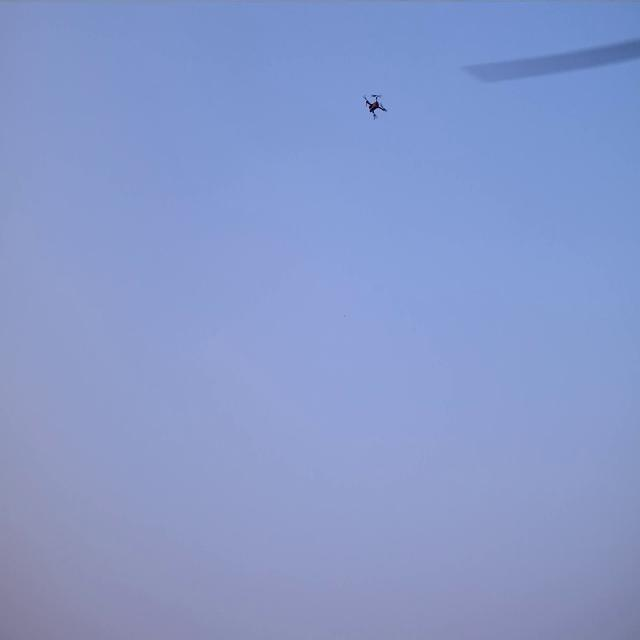UAV: (366, 95, 385, 119)
